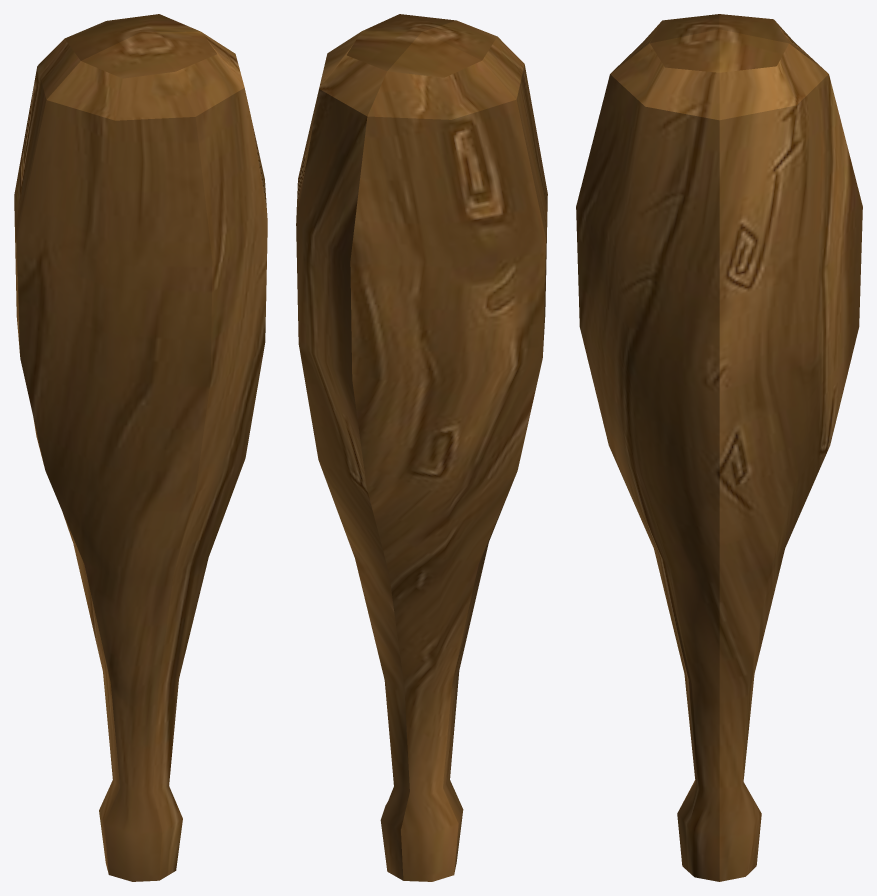
The model's file is Clava.fbx.
The picture shows the model from 3 angles, left to right: view 1: azimuth 30°, elevation 25°; view 2: azimuth 150°, elevation 25°; view 3: azimuth 270°, elevation 25°; orthographic projection.
Visible parts, largest first — view 1: pCylinder5; view 2: pCylinder5; view 3: pCylinder5.
Boxes of the visible parts, x1,y1,x2,y2 form: pCylinder5: (14, 14, 267, 881); pCylinder5: (296, 14, 547, 881); pCylinder5: (576, 14, 862, 881).
Bounding box in the file's own units: 23.87 × 77.81 × 23.87.
